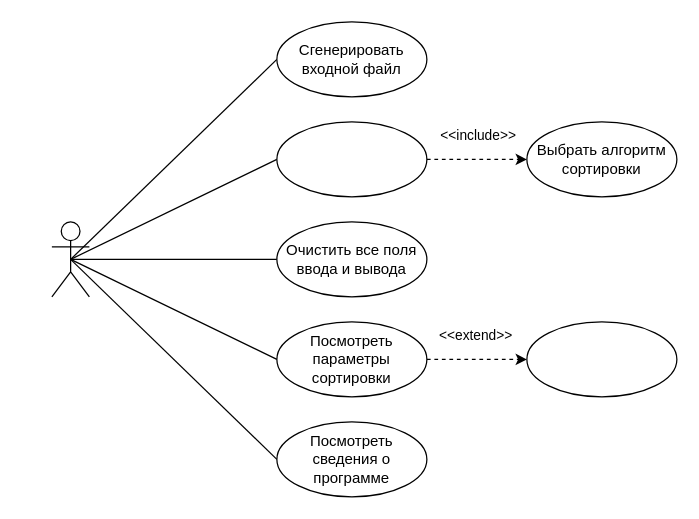
Image size: 699x519. Some labels were removed from this diagram. The centre of each missing label's shape, as x and y in pixels:
Запустить алгоритм сортировки: the point at 351,159
Пользователь: the point at 70,259
Скопировать параметры сортировки: the point at 601,359
